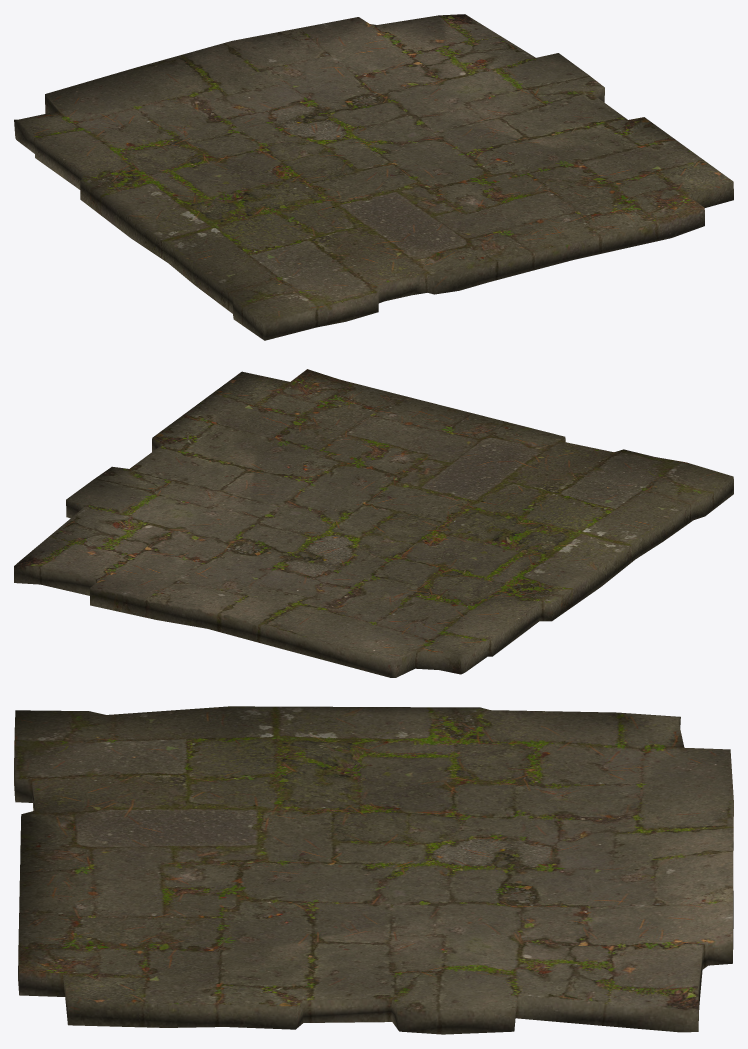
File: japanese_shrine_stone_floor_ugrxbjkfa_low.glb
3 views of the same model, one above another, from view 1: azimuth 30°, elevation 25°; view 2: azimuth 150°, elevation 25°; view 3: azimuth 270°, elevation 25° (orthographic). The views are drawn at different scales.
Visible parts, largest first — view 1: ugrxbjkfa_LOD0_TIER3_000; view 2: ugrxbjkfa_LOD0_TIER3_000; view 3: ugrxbjkfa_LOD0_TIER3_000.
Part boxes in pixels (x1,y1,x2,y2): ugrxbjkfa_LOD0_TIER3_000: (14,14,733,340); ugrxbjkfa_LOD0_TIER3_000: (14,369,733,677); ugrxbjkfa_LOD0_TIER3_000: (14,706,733,1034).
Bounding box in the file's own units: 2 × 0.1349 × 2.02.
Materials: 1 (1 with a texture image).
